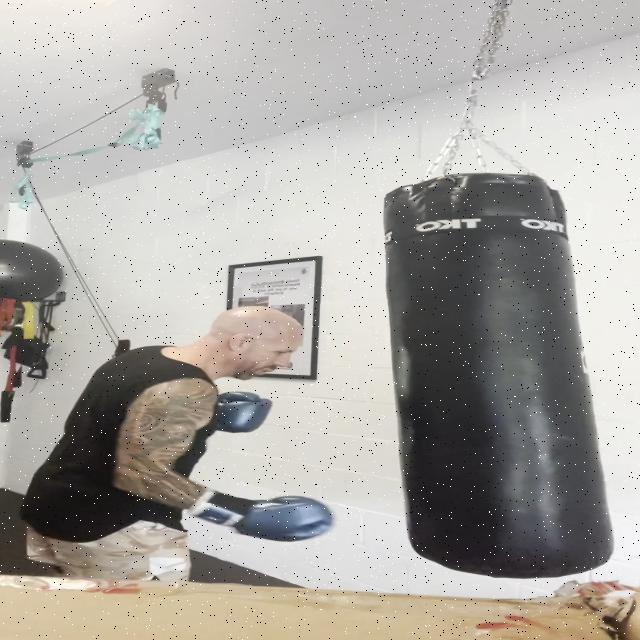bag: (388, 169, 606, 576)
uppercut: (105, 384, 339, 542)
